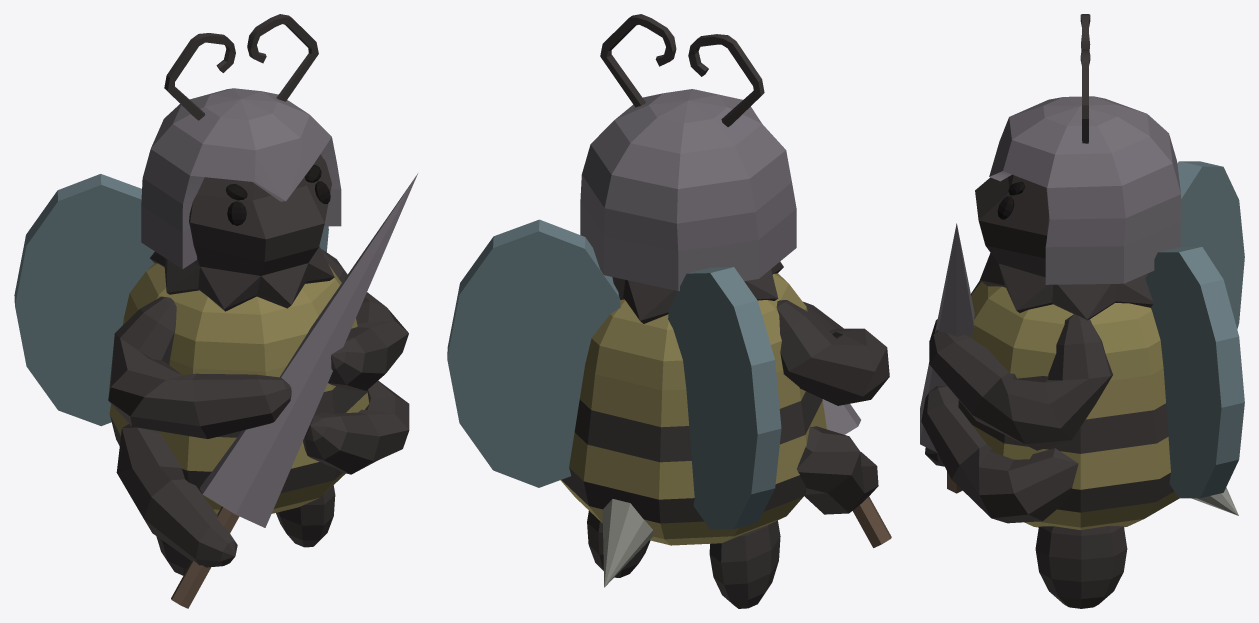
Rendered from WarTable_CaptBeetle.fbx.
The picture shows the model from 3 angles, left to right: view 1: azimuth 30°, elevation 25°; view 2: azimuth 150°, elevation 25°; view 3: azimuth 270°, elevation 25°; orthographic projection. The views are drawn at different scales.
Parts seen in each view (by area): view 1: Seated_CaptBeetle; view 2: Seated_CaptBeetle; view 3: Seated_CaptBeetle.
Boxes of the visible parts, box(x1,y1,x2,y2) form: Seated_CaptBeetle: box(14, 14, 417, 608); Seated_CaptBeetle: box(447, 14, 891, 608); Seated_CaptBeetle: box(920, 14, 1244, 608).
Bounding box in the file's own units: 4.23 × 6.86 × 3.72.
